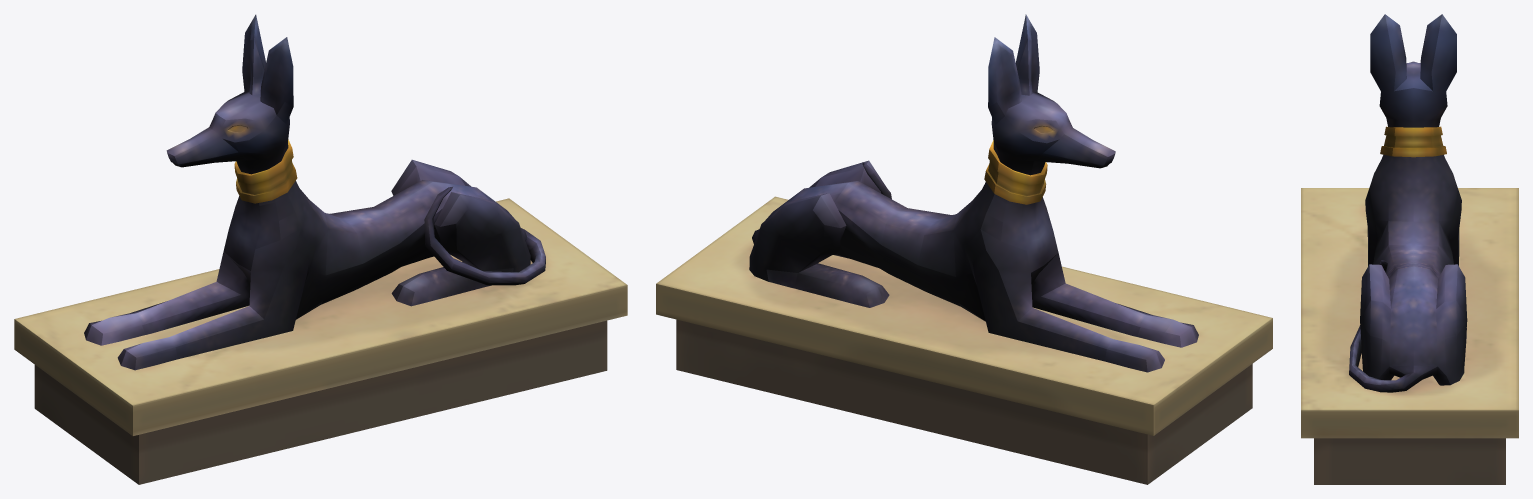
Rendered from Obstacles_Dog.fbx.
3 renders of one model, left to right at view 1: azimuth 30°, elevation 25°; view 2: azimuth 150°, elevation 25°; view 3: azimuth 270°, elevation 25°, orthographic. The views are drawn at different scales.
Visible parts, largest first — view 1: Obstacle_Dog; view 2: Obstacle_Dog; view 3: Obstacle_Dog.
Boxes of the visible parts, x1,y1,x2,y2 form: Obstacle_Dog: (14,14,627,484); Obstacle_Dog: (656,14,1272,484); Obstacle_Dog: (1301,14,1518,484).
Bounding box in the file's own units: 1627 × 1176 × 674.
